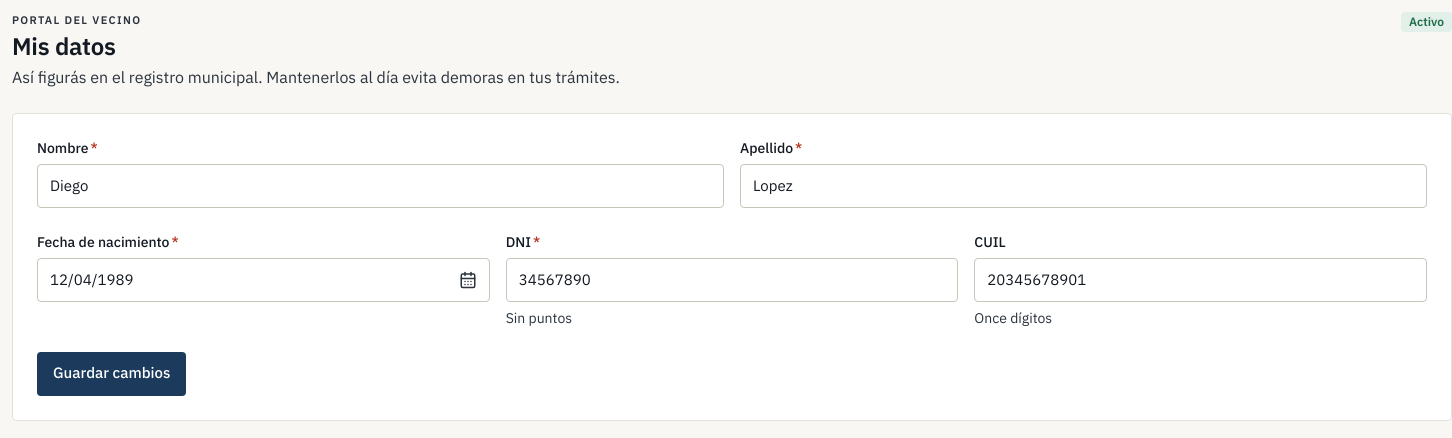
Test case: Perfil › rechaza CUIL invalido sin enviar la actualizacion
Expected: the field labelled "Nombre" is shown, [37,164,724,208]
Replace the text in the field labelled "CUIL" with "123": (1201, 280) [974,258,1427,302]
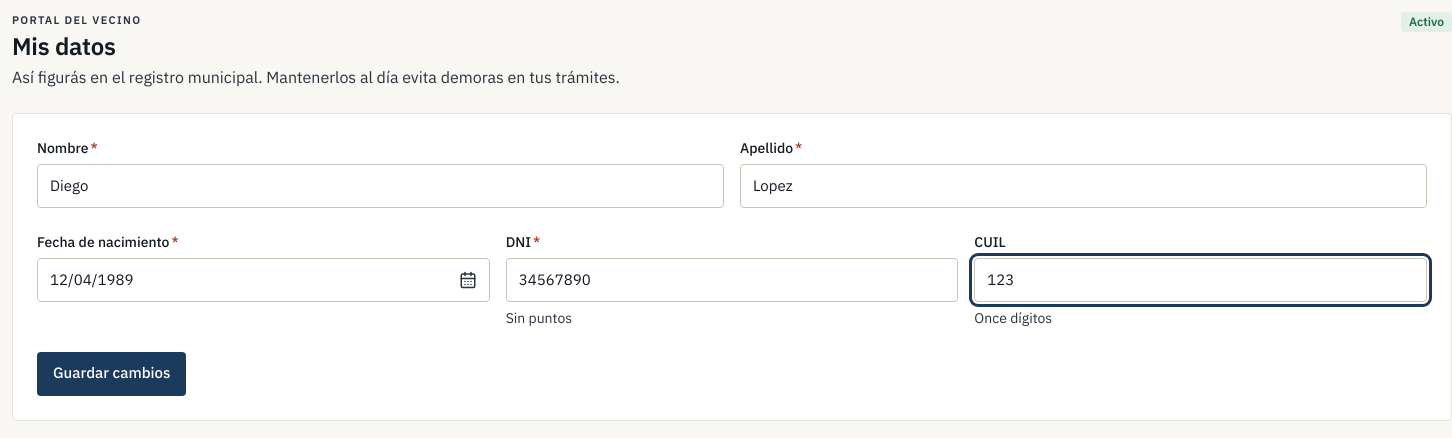
Click the button "Guardar cambios": click(112, 374) [37,352,186,396]
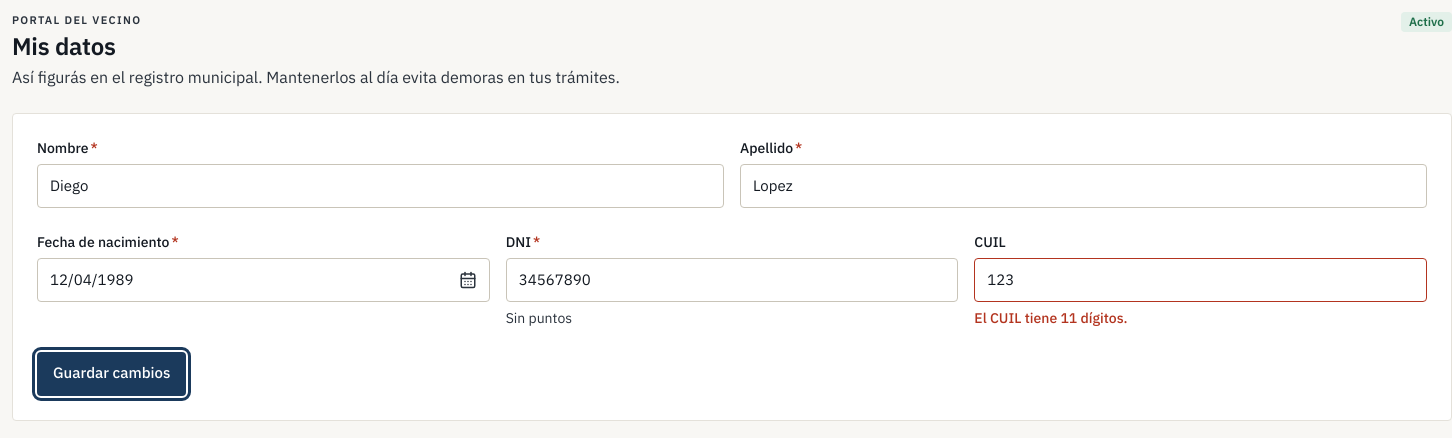
Now the text "El CUIL tiene 11 dígitos." is shown, box [974,308,1128,326]
